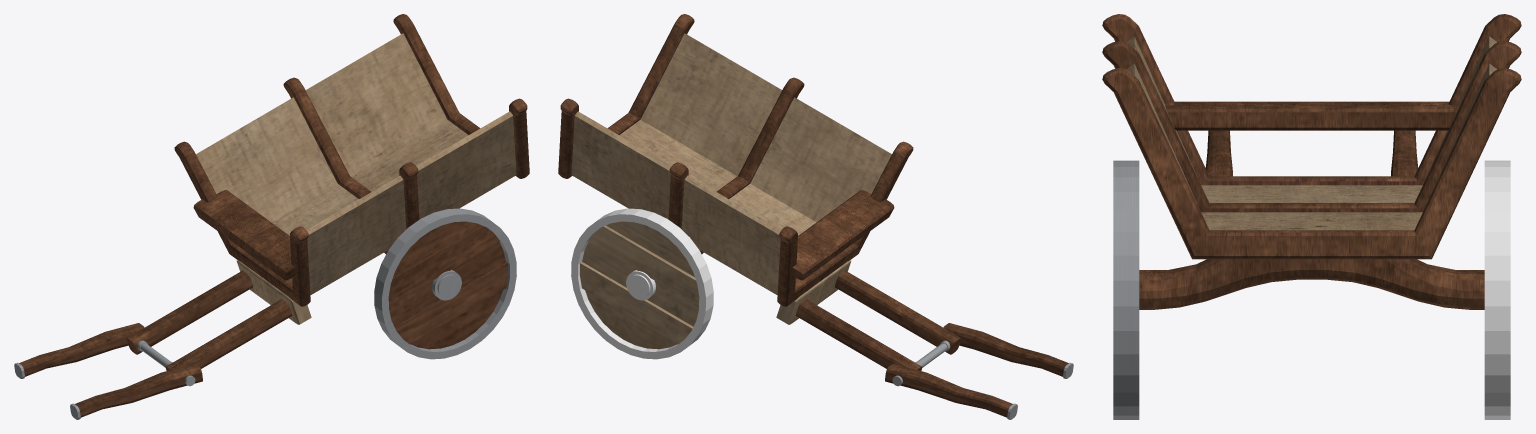
The model's file is Carreta.glb.
3 views of the same model, side by side, from view 1: azimuth 30°, elevation 25°; view 2: azimuth 150°, elevation 25°; view 3: azimuth 270°, elevation 25° (orthographic). The views are drawn at different scales.
Visible parts, largest first — view 1: Carriage; view 2: Carriage; view 3: Carriage.
Part boxes in pixels (left/top/right/bottom): Carriage: left=14, top=14, right=529, bottom=419; Carriage: left=558, top=14, right=1073, bottom=419; Carriage: left=1102, top=14, right=1521, bottom=419.
Bounding box in the file's own units: 9.29 × 4.74 × 4.52.
3 materials, 3 textured.
